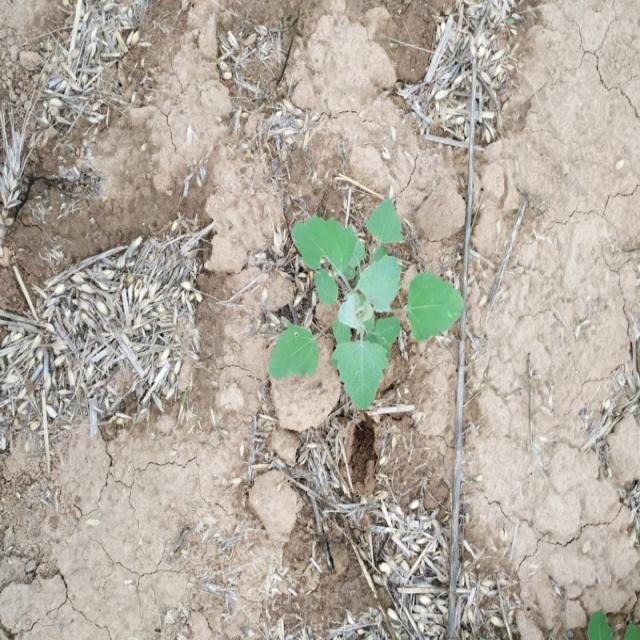goosefoots: (254, 186, 446, 412)
